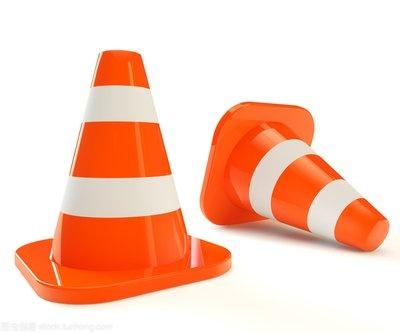cone_barrel: (36, 52, 197, 290), (197, 100, 389, 252)
